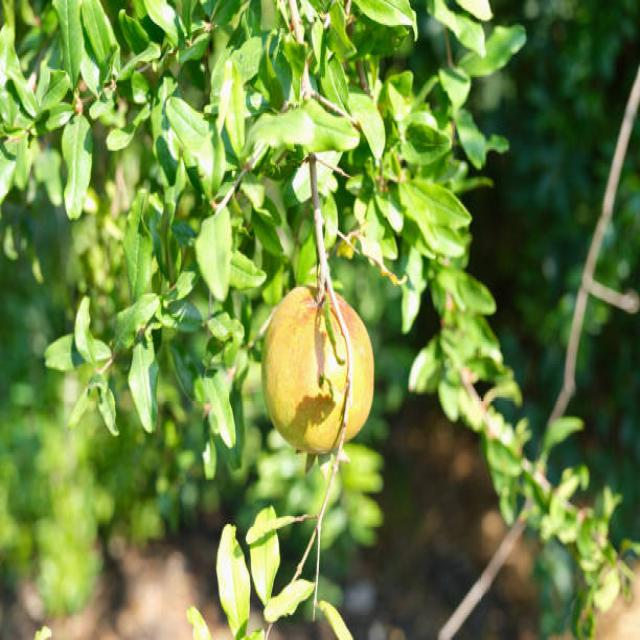Unripe: (264, 282, 376, 484)
